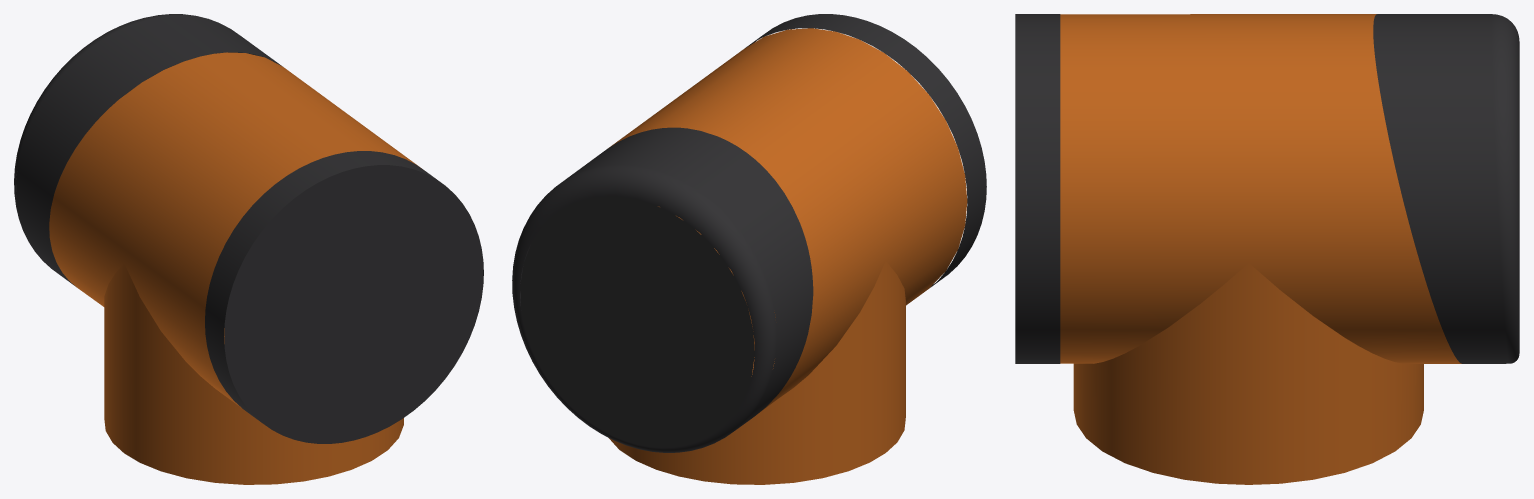
The picture shows the model from 3 angles, left to right: view 1: azimuth 30°, elevation 25°; view 2: azimuth 150°, elevation 25°; view 3: azimuth 270°, elevation 25°; orthographic projection. The views are drawn at different scales.
Visible parts, largest first — view 1: NONE-DC_Shell_ncl1_2, NONE-DC_Shell_ncl1_3, NONE-DC_Shell, NONE-DC_Shell_ncl1_1; view 2: NONE-DC_Shell_ncl1_2, NONE-DC_Shell, NONE-DC_Shell_ncl1_1; view 3: NONE-DC_Shell_ncl1_2, NONE-DC_Shell, NONE-DC_Shell_ncl1_1.
Part boxes in pixels (x1,y1,x2,y2): NONE-DC_Shell_ncl1_2: (49,52,421,484); NONE-DC_Shell_ncl1_3: (224,165,483,443); NONE-DC_Shell: (14,14,282,287); NONE-DC_Shell_ncl1_1: (205,151,483,422); NONE-DC_Shell_ncl1_2: (609,28,967,484); NONE-DC_Shell: (512,127,813,452); NONE-DC_Shell_ncl1_1: (745,14,986,287); NONE-DC_Shell_ncl1_2: (1060,14,1461,484); NONE-DC_Shell: (1373,14,1519,363); NONE-DC_Shell_ncl1_1: (1015,14,1060,363).
Size of the model in its own units: 0.075 by 0.108 by 0.09.
